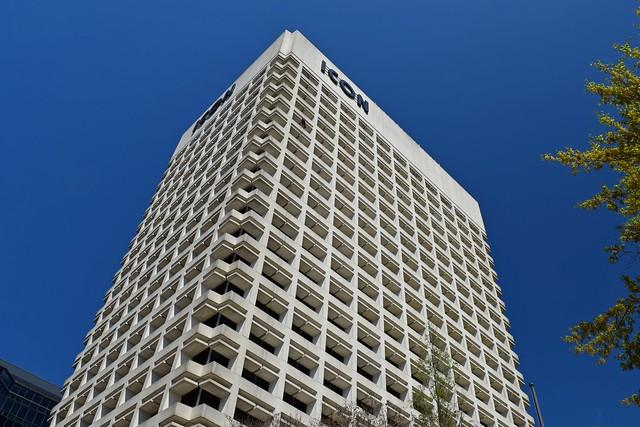building: (43, 26, 537, 423)
